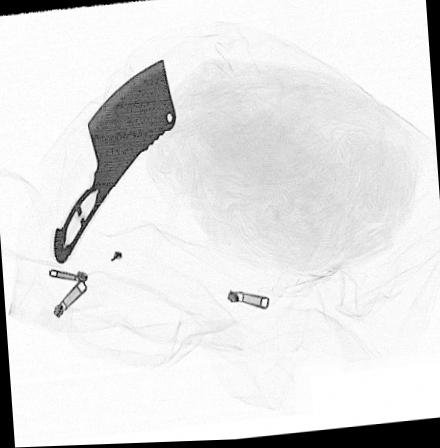Knife: (51, 58, 179, 266)
